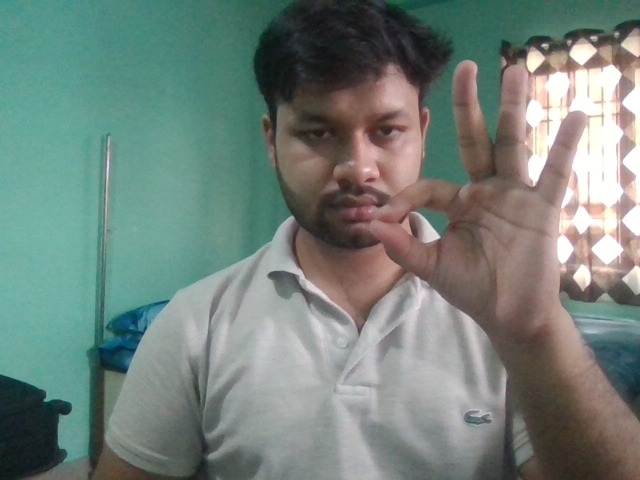Ok: (366, 54, 594, 364)
